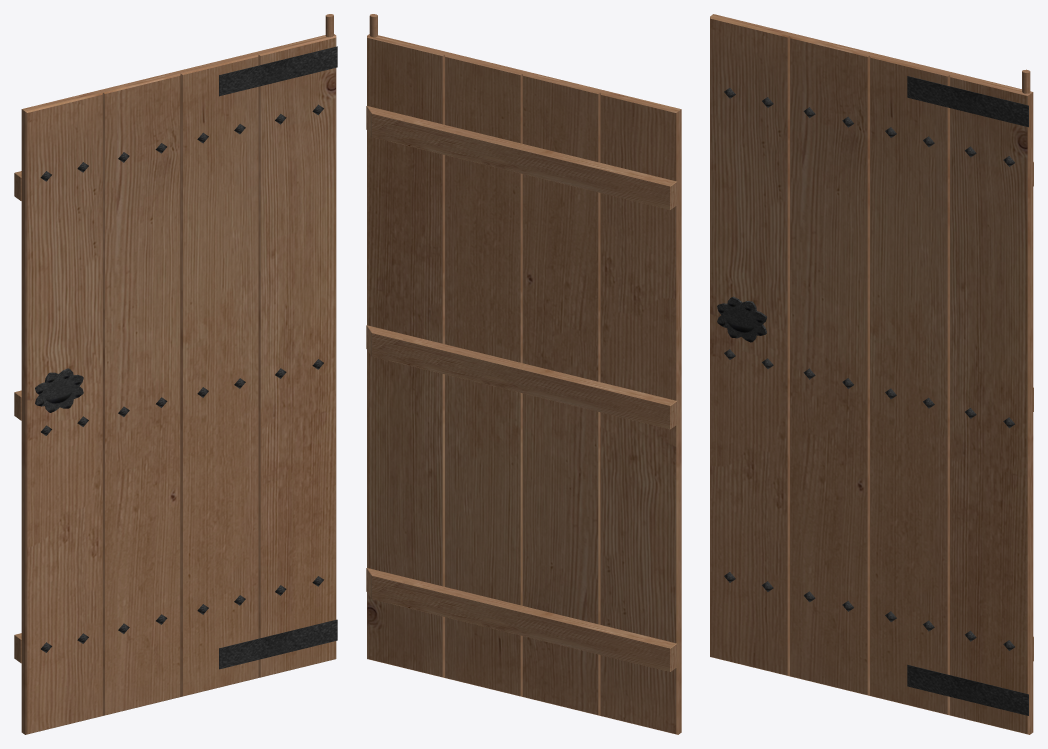
File: SM_Yeonkyung_Jangyangmoon_Door_B_001.fbx
3 renders of one model, left to right at view 1: azimuth 30°, elevation 25°; view 2: azimuth 150°, elevation 25°; view 3: azimuth 330°, elevation 25°, orthographic. The views are drawn at different scales.
Visible parts, largest first — view 1: SM_Yeonkyung_Jangyangmoon_Door_B_001; view 2: SM_Yeonkyung_Jangyangmoon_Door_B_001; view 3: SM_Yeonkyung_Jangyangmoon_Door_B_001.
Part boxes in pixels (x1=…): SM_Yeonkyung_Jangyangmoon_Door_B_001: x1=14, y1=14, x2=337, y2=734; SM_Yeonkyung_Jangyangmoon_Door_B_001: x1=366, y1=14, x2=681, y2=734; SM_Yeonkyung_Jangyangmoon_Door_B_001: x1=710, y1=14, x2=1033, y2=734.
Bounding box in the file's own units: 115 × 228 × 9.49.
